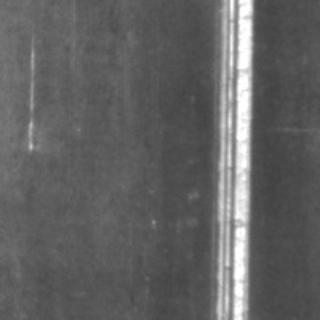scratches: (206, 0, 254, 316)
